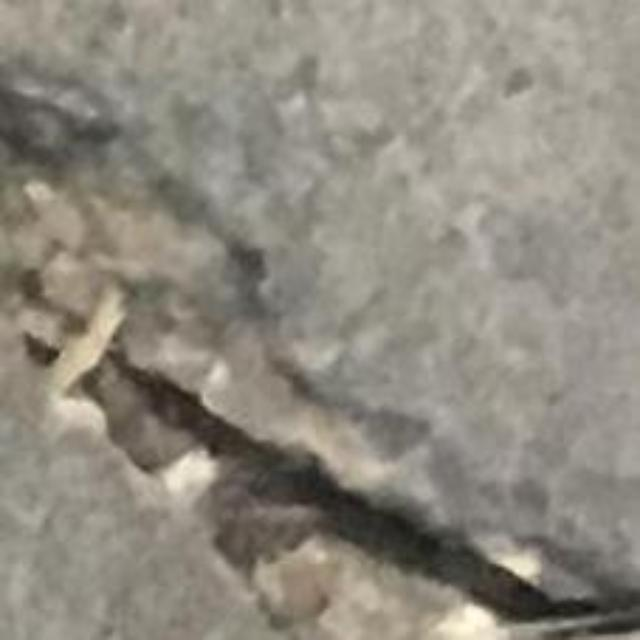crack: (0, 48, 639, 631)
